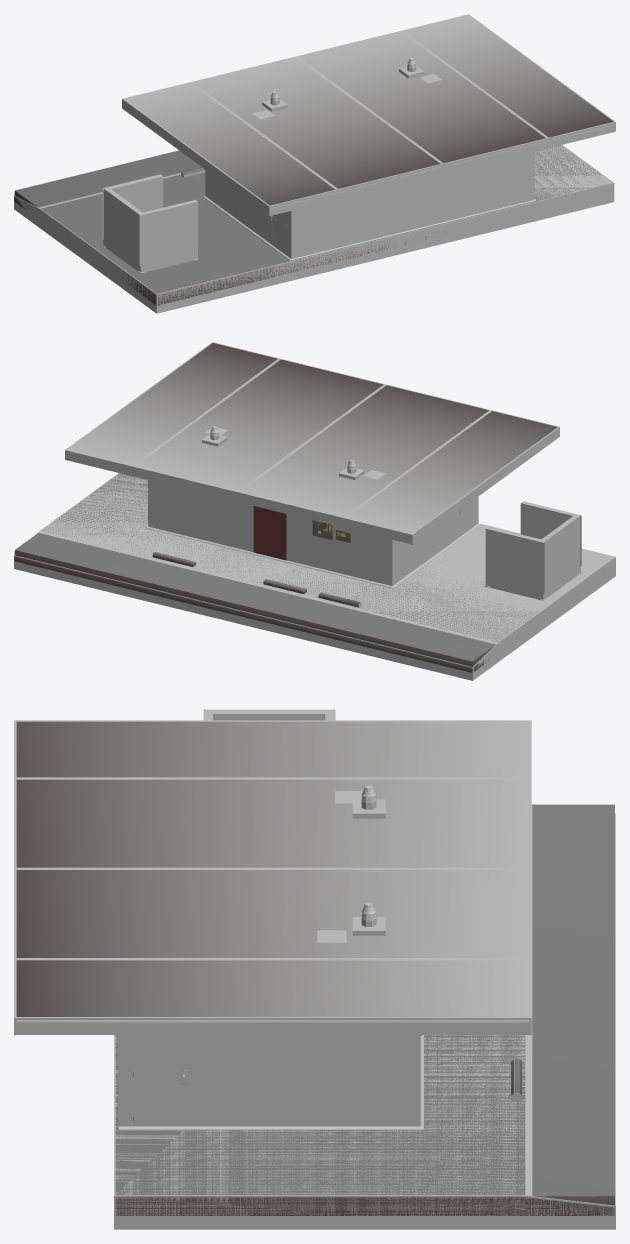
File: ut_base_camp.DAE
3 renders of one model, top to bottom at view 1: azimuth 30°, elevation 25°; view 2: azimuth 150°, elevation 25°; view 3: azimuth 270°, elevation 25°, orthographic. The views are drawn at different scales.
Parts seen in each view (by area): view 1: ut_base_camp400, Colmesh-1, ut_base_camp120; view 2: ut_base_camp400, Colmesh-1, ut_base_camp120; view 3: ut_base_camp400, Colmesh-1, ut_base_camp120.
Part boxes in pixels (x1,y1,x2,y2): ut_base_camp400: [14, 15, 614, 305]; Colmesh-1: [14, 14, 615, 313]; ut_base_camp120: [14, 150, 286, 255]; ut_base_camp400: [14, 343, 581, 672]; Colmesh-1: [14, 342, 615, 680]; ut_base_camp120: [14, 500, 495, 666]; ut_base_camp400: [16, 709, 614, 1215]; Colmesh-1: [14, 709, 615, 1229]; ut_base_camp120: [532, 804, 614, 1205].
Size of the model in its own units: 1697 by 1100 by 431.
